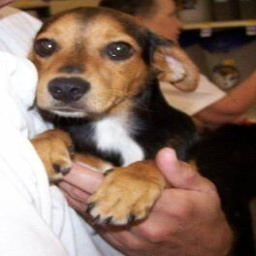dog: (27, 6, 200, 224)
